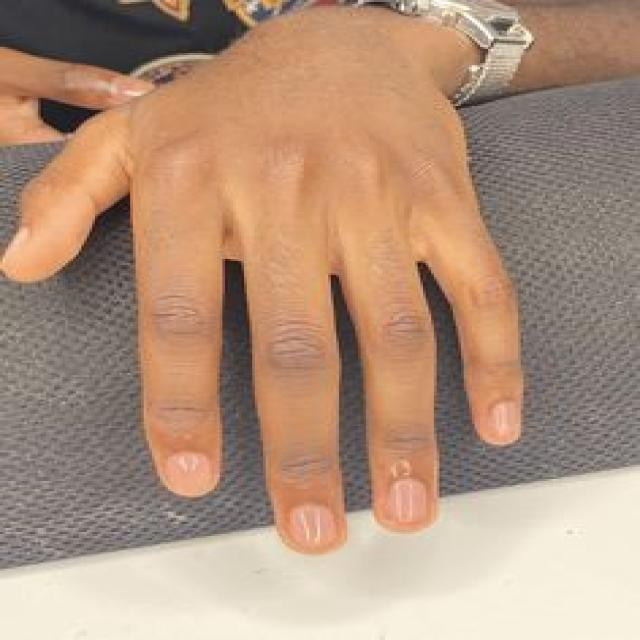Fingernail: (165, 451, 216, 496), (290, 504, 338, 550), (388, 479, 430, 523), (487, 401, 519, 445), (1, 224, 31, 268)
